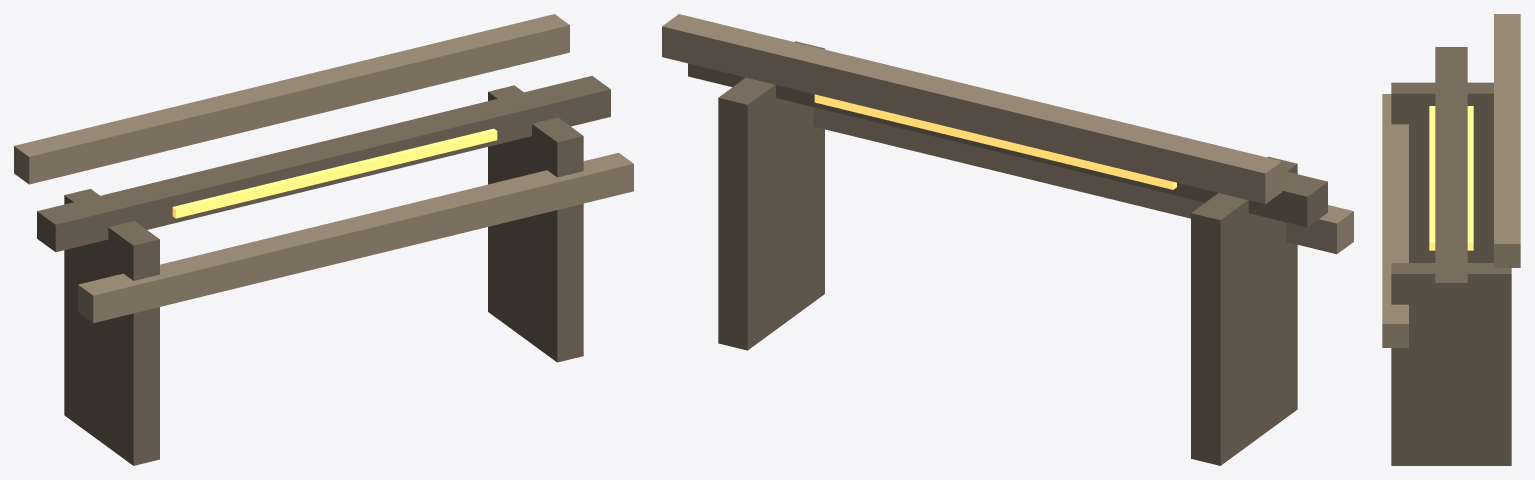
Rendered from refinery-pipe-rack-lod1.glb.
3 renders of one model, left to right at view 1: azimuth 30°, elevation 25°; view 2: azimuth 150°, elevation 25°; view 3: azimuth 270°, elevation 25°, orthographic. The views are drawn at different scales.
Parts seen in each view (by area): view 1: refinery-pipe-main-b, refinery-pipe-main-a, refinery-pipe-rack-spine, refinery-pipe-support-left, refinery-pipe-support-right, refinery-pipe-warning; view 2: refinery-pipe-main-b, refinery-pipe-support-left, refinery-pipe-support-right, refinery-pipe-main-a, refinery-pipe-rack-spine, refinery-pipe-warning; view 3: refinery-pipe-support-right, refinery-pipe-support-left, refinery-pipe-rack-spine, refinery-pipe-main-b, refinery-pipe-main-a, refinery-pipe-warning.
Part boxes in pixels (x1=…): refinery-pipe-main-b: x1=14, y1=14, x2=569, y2=184; refinery-pipe-main-a: x1=78, y1=152, x2=633, y2=322; refinery-pipe-rack-spine: x1=37, y1=76, x2=610, y2=252; refinery-pipe-support-left: x1=64, y1=189, x2=159, y2=465; refinery-pipe-support-right: x1=488, y1=85, x2=583, y2=362; refinery-pipe-warning: x1=172, y1=128, x2=497, y2=218; refinery-pipe-main-b: x1=662, y1=14, x2=1282, y2=204; refinery-pipe-support-left: x1=1191, y1=156, x2=1297, y2=465; refinery-pipe-support-right: x1=718, y1=41, x2=824, y2=350; refinery-pipe-main-a: x1=813, y1=107, x2=1353, y2=254; refinery-pipe-rack-spine: x1=688, y1=63, x2=1327, y2=227; refinery-pipe-warning: x1=814, y1=94, x2=1176, y2=189; refinery-pipe-support-right: x1=1391, y1=263, x2=1511, y2=465; refinery-pipe-support-left: x1=1391, y1=82, x2=1493, y2=262; refinery-pipe-rack-spine: x1=1435, y1=47, x2=1467, y2=306; refinery-pipe-main-b: x1=1494, y1=14, x2=1520, y2=267; refinery-pipe-main-a: x1=1382, y1=94, x2=1408, y2=347; refinery-pipe-warning: x1=1429, y1=106, x2=1473, y2=250.
Bounding box in the file's own units: 3.8 × 1.81 × 0.94.
